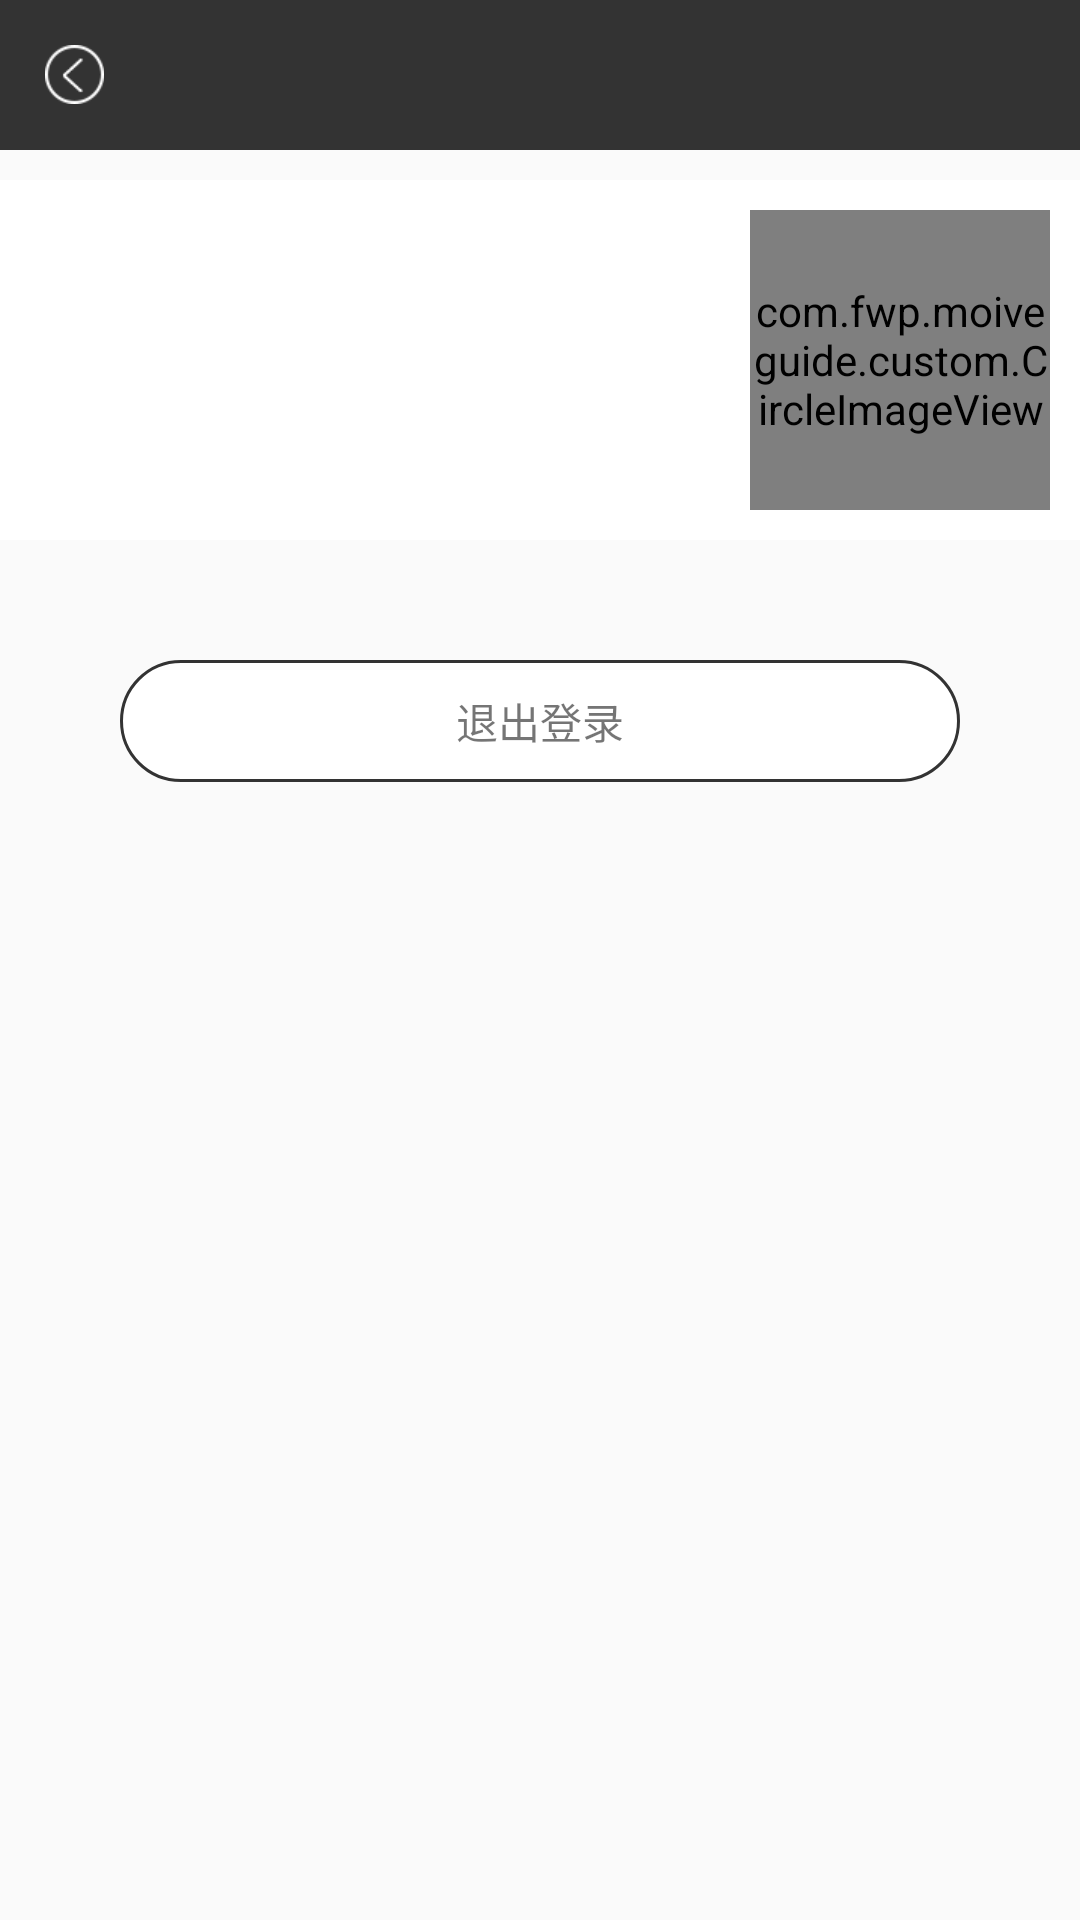

Point at icon controls on the screen. Image size 1080 x 1920, points as (x,y).
back: (74,74)
